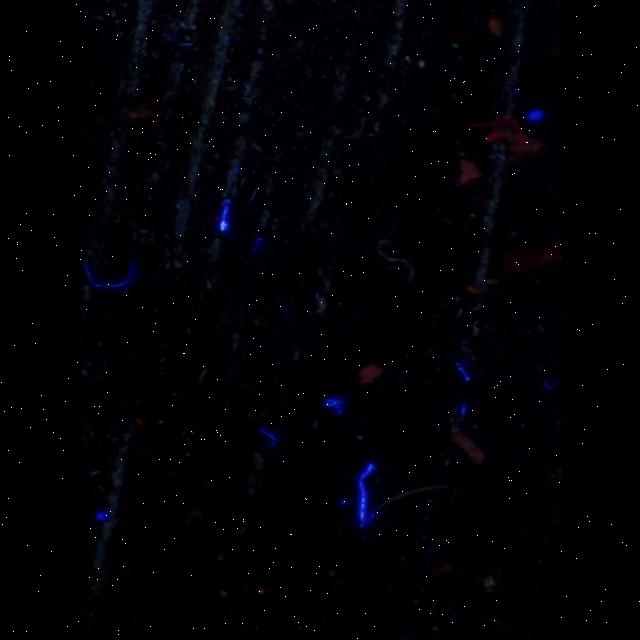Fibre: (375, 239, 419, 281)
